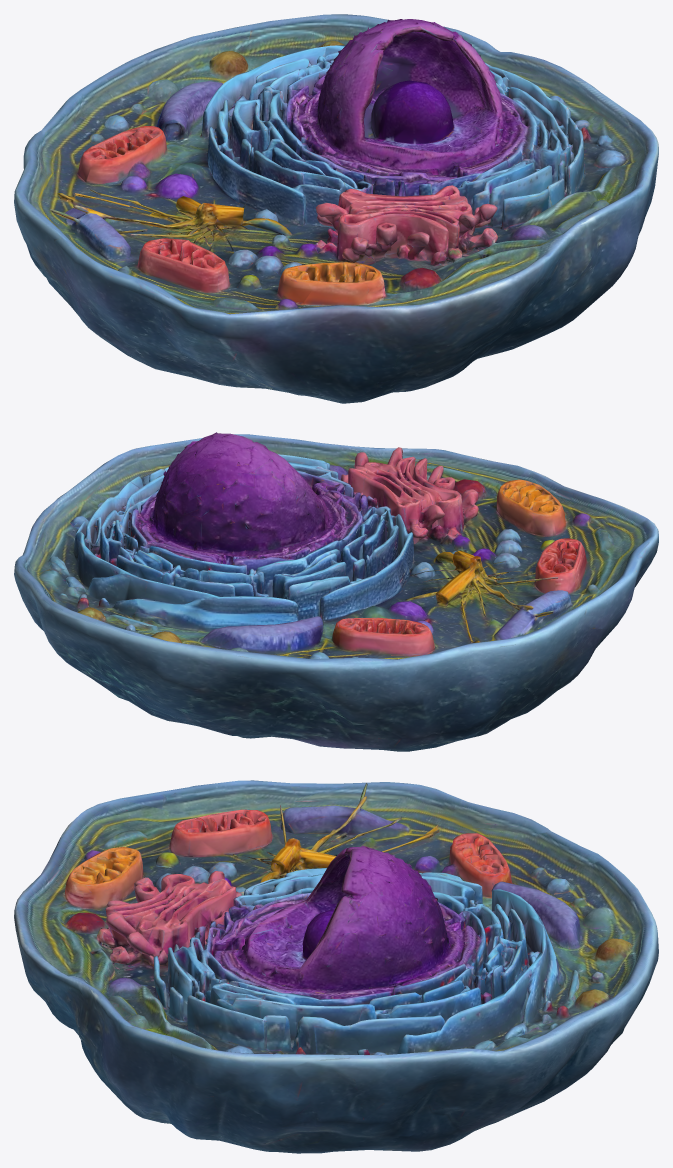
The model's file is animal-cell-v2.glb.
3 views of the same model, one above another, from view 1: azimuth 30°, elevation 25°; view 2: azimuth 150°, elevation 25°; view 3: azimuth 270°, elevation 25° (orthographic). The views are drawn at different scales.
Parts seen in each view (by area): view 1: Mesh_0; view 2: Mesh_0; view 3: Mesh_0.
Boxes of the visible parts, <box> form: Mesh_0: <box>14,14,658,403</box>; Mesh_0: <box>14,432,658,751</box>; Mesh_0: <box>14,780,658,1153</box>.
Bounding box in the file's own units: 1.91 × 0.9042 × 1.87.
Materials: 1 (1 with a texture image).
